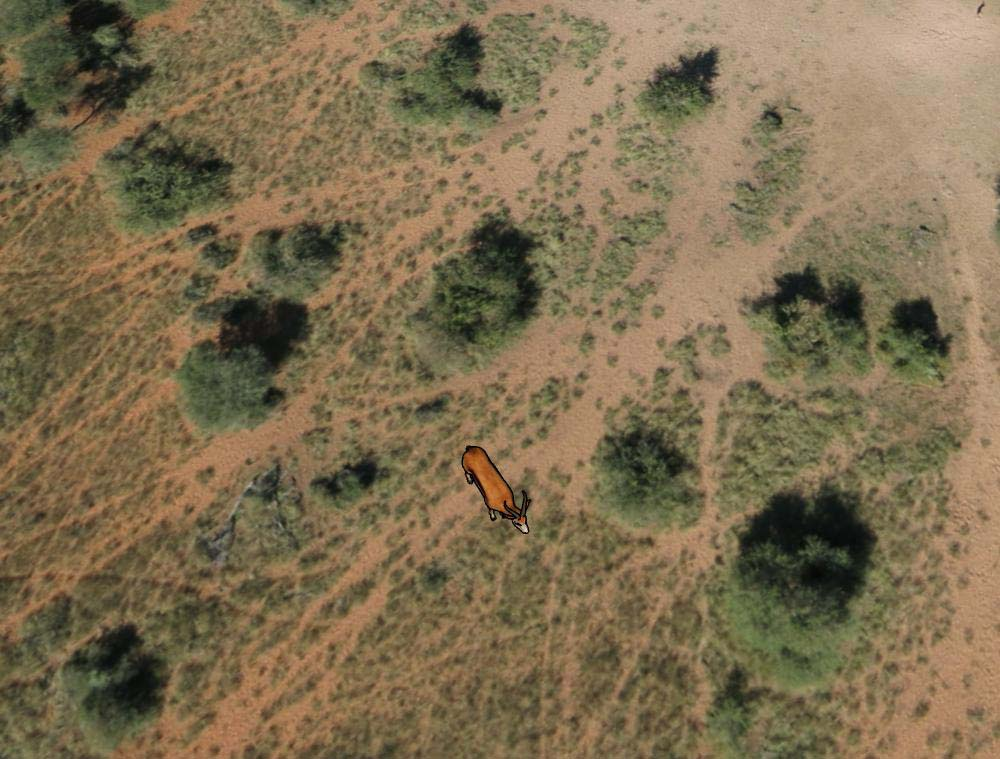springbok: (460, 442, 537, 542)
